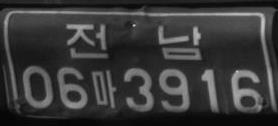0: (22, 65, 53, 109)
1: (197, 68, 225, 113)
3: (123, 66, 155, 112)
6: (230, 68, 263, 114), (56, 65, 88, 108)
9: (157, 67, 191, 113)
마: (90, 69, 117, 108)
전남_D: (65, 22, 202, 61)
